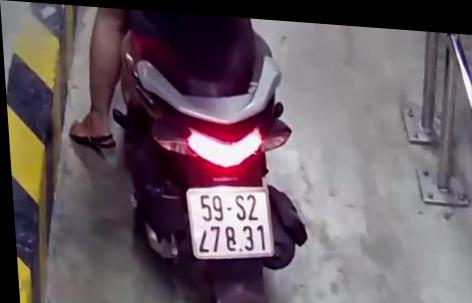License_Plate: (177, 180, 285, 271)
